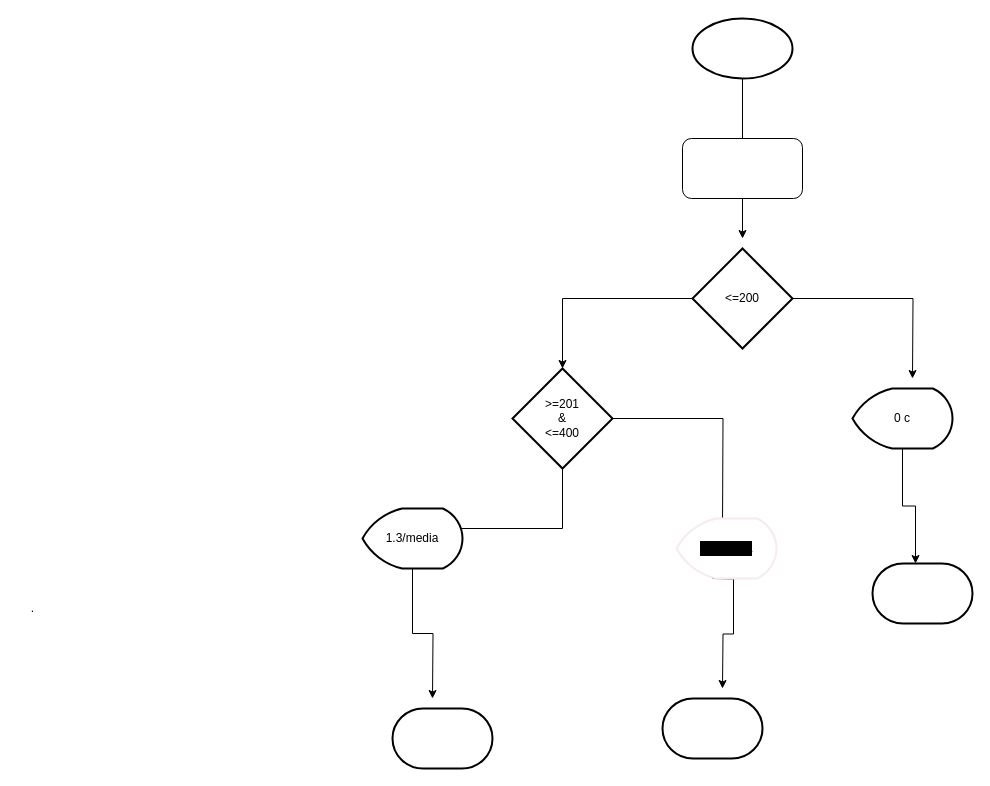
Image size: 990x786. Some labels were removed from this diagram. Here are the shapes that lost their labels. From the top down, the centre of each, then its label:
At point 742,48: "inicio".
At point 742,168: "0 a 200=0 C 201 a 400 = 20% sm 401 a 600= 30% sm".
